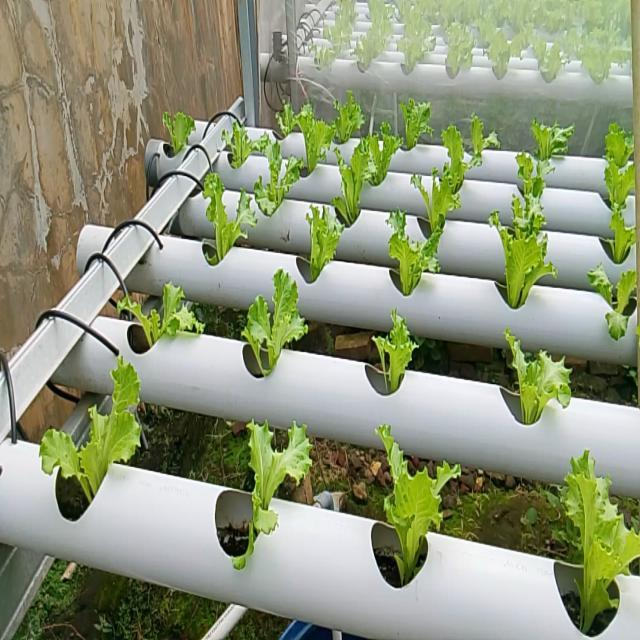Baby: (40, 366, 140, 511), (561, 457, 640, 639), (375, 432, 459, 592), (231, 428, 310, 577), (241, 272, 307, 379), (409, 145, 480, 238), (503, 332, 568, 428), (113, 283, 203, 349), (330, 135, 387, 228), (201, 174, 256, 268), (388, 90, 446, 174), (495, 227, 550, 310), (275, 101, 333, 174), (252, 136, 303, 219), (586, 264, 635, 341), (372, 313, 416, 396), (505, 170, 546, 258), (387, 213, 426, 297), (304, 208, 343, 285), (220, 116, 268, 170), (603, 127, 633, 208), (461, 112, 499, 168), (530, 116, 573, 159), (331, 89, 364, 143), (161, 110, 195, 151)
